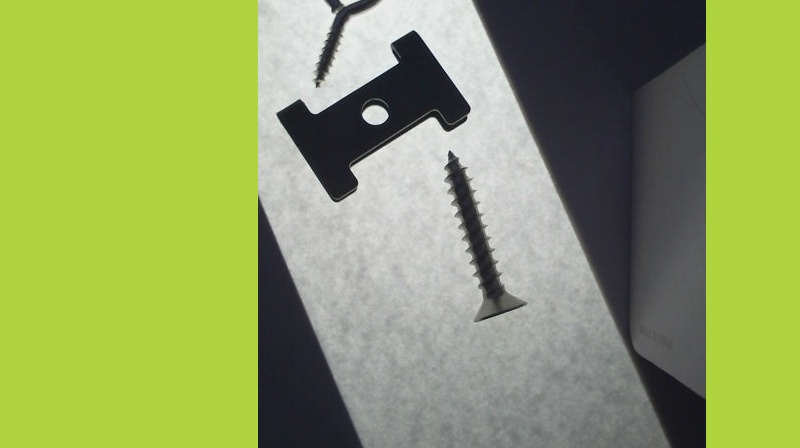O001: (310, 0, 391, 89)
O002: (275, 27, 470, 205)
S001: (443, 147, 527, 321)
